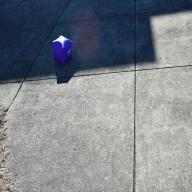cube: (52, 35, 72, 66)
